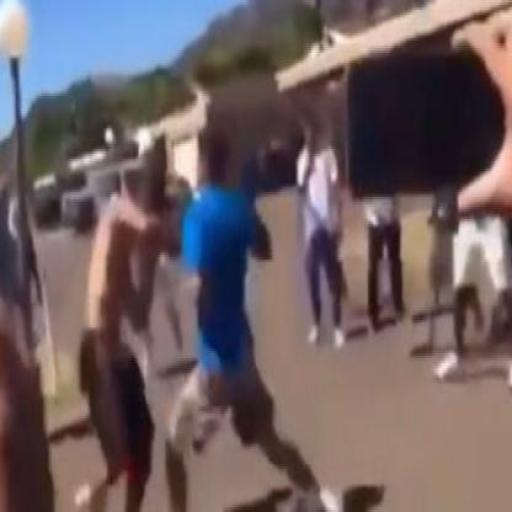Fighting: (82, 116, 340, 512)
